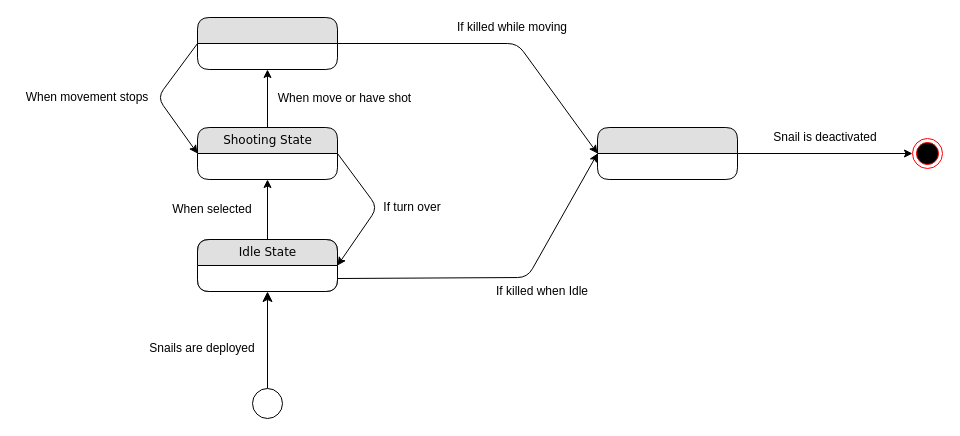
The diagram is 960 pixels wide and 436 high, and some of its shapes have lost their labels. Here are the shapes that lost their labels. From the top down, the centre of each, then its label:
(x=267, y=43): Moving State
(x=667, y=153): Death State
